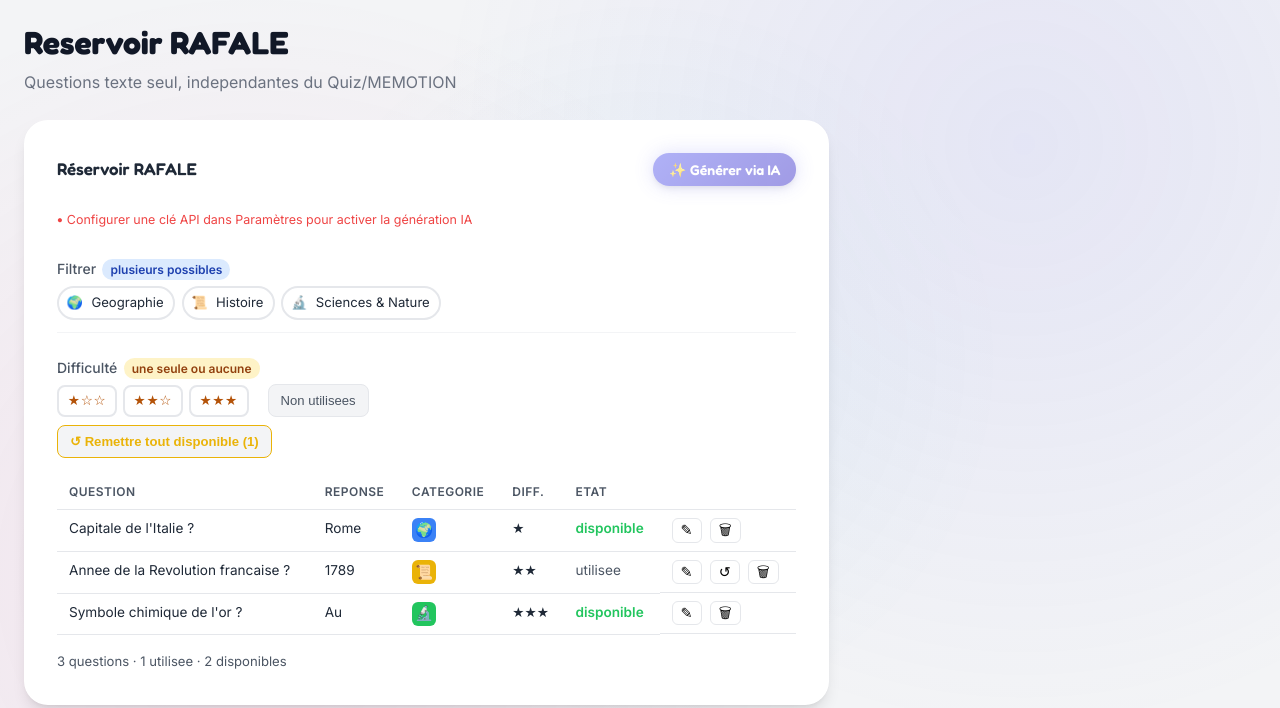
Scenario: RafalePage — filtres › filtre par difficulté : ne montre que les questions de la difficulté choisie
expect the text "Capitale de l'Italie ?" is shown: met, box [57,510,313,552]
Click the radio button titled "Difficulte 2" at coordinates (153, 401), box [123,385,183,417]
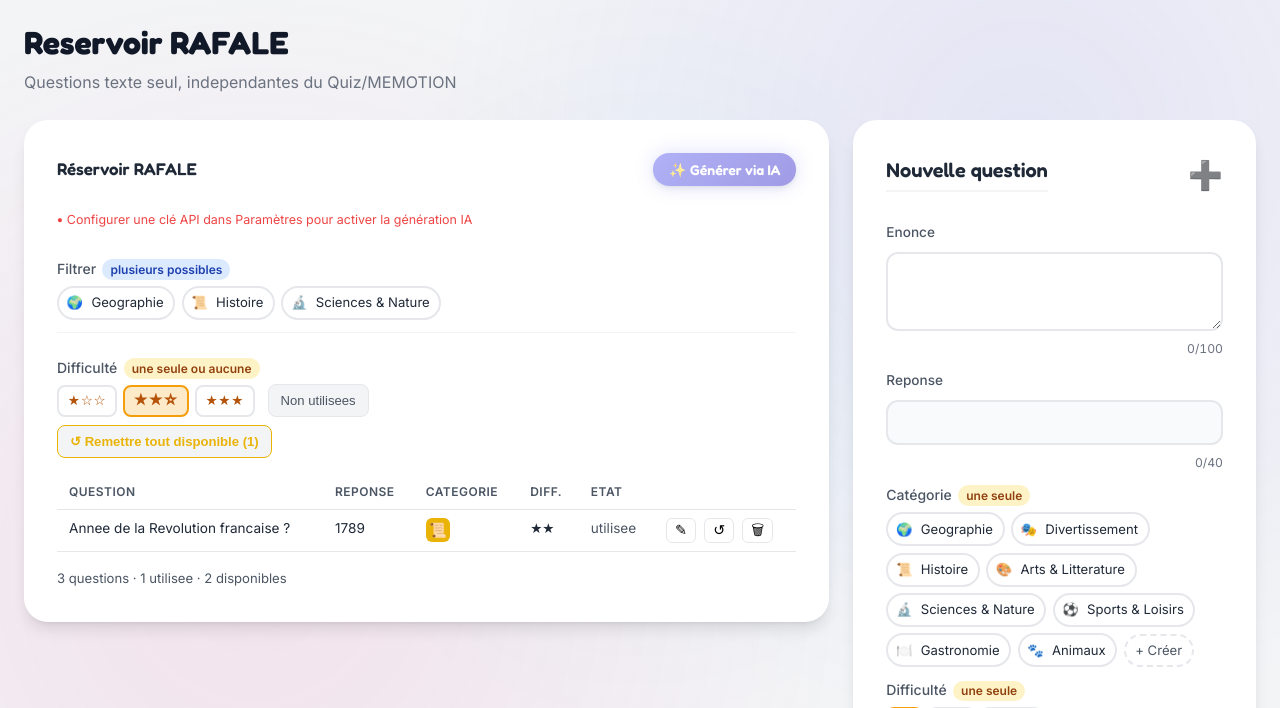
expect the text "Annee de la Revolution francaise ?" is shown: met, box [57,510,323,552]
expect the text "Capitale de l'Italie ?" is gone: met
expect the text "Symbole chimique de l'or ?" is gone: met
